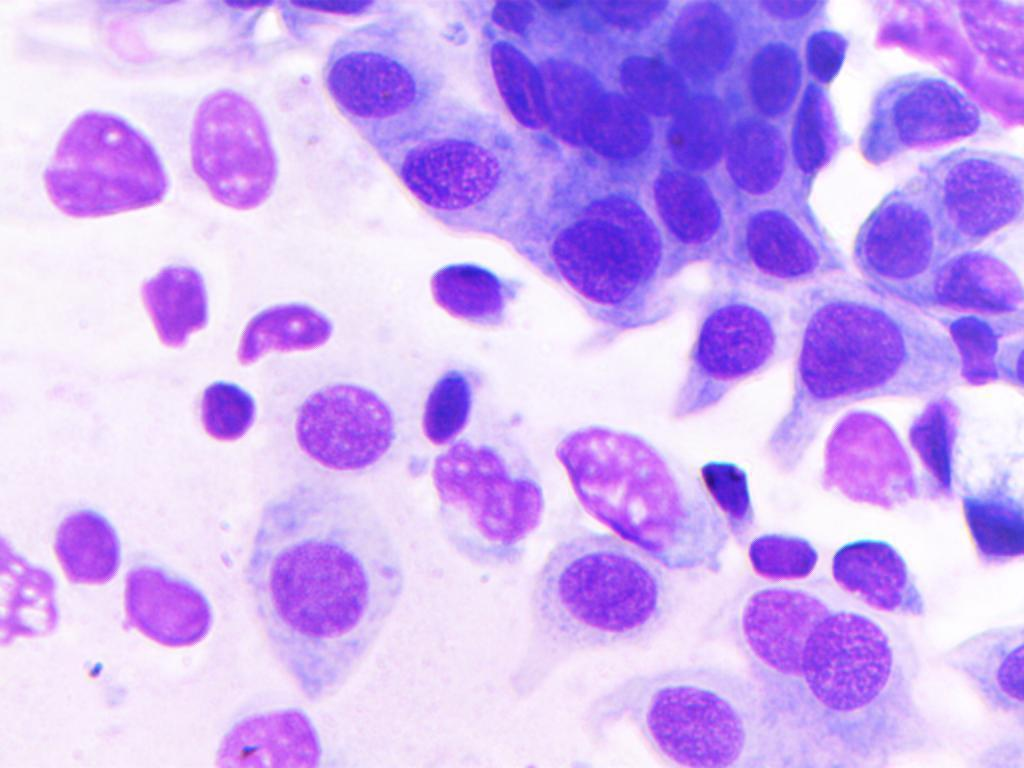epithelial: (217, 481, 422, 704), (522, 534, 677, 689), (534, 412, 690, 557), (25, 87, 179, 222), (182, 61, 290, 241), (798, 291, 948, 408), (546, 199, 668, 337), (264, 371, 417, 481), (599, 666, 755, 767), (859, 61, 991, 169), (432, 438, 539, 563), (685, 295, 782, 431), (116, 548, 220, 663), (385, 125, 513, 217), (733, 569, 823, 691), (819, 403, 918, 513), (827, 520, 933, 616), (315, 35, 432, 119), (799, 613, 892, 710), (937, 141, 1022, 244), (230, 296, 345, 372), (43, 493, 122, 588), (211, 708, 335, 768), (860, 190, 935, 279), (967, 614, 1024, 729), (906, 392, 963, 500), (137, 262, 210, 342), (925, 254, 1024, 312), (739, 36, 804, 120), (945, 310, 999, 392), (731, 532, 816, 584)
metaplastic: (422, 249, 534, 337), (647, 88, 743, 178), (538, 48, 609, 163), (478, 36, 557, 132), (643, 165, 726, 252), (421, 356, 496, 451), (734, 204, 820, 285), (717, 113, 790, 203), (966, 470, 1024, 573), (672, 0, 742, 80), (612, 45, 688, 118), (783, 87, 843, 177), (587, 87, 652, 161), (194, 380, 257, 450), (699, 451, 752, 525), (805, 25, 856, 83)
